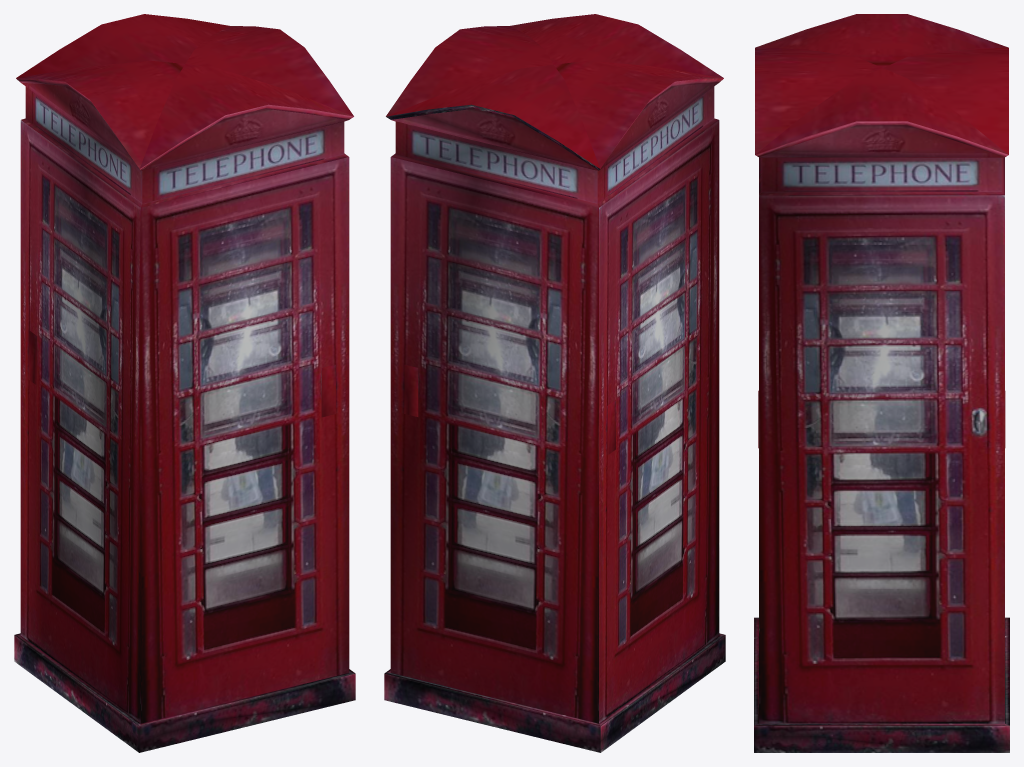
File: city2_telephoneBox.fbx
3 views of the same model, side by side, from view 1: azimuth 30°, elevation 25°; view 2: azimuth 150°, elevation 25°; view 3: azimuth 270°, elevation 25° (orthographic). The views are drawn at different scales.
Visible parts, largest first — view 1: phoneBox; view 2: phoneBox; view 3: phoneBox.
Part boxes in pixels (x1,y1,x2,y2): phoneBox: (14,14,355,752); phoneBox: (384,14,725,752); phoneBox: (754,14,1009,752).
Bounding box in the file's own units: 74.17 × 202 × 74.17.
